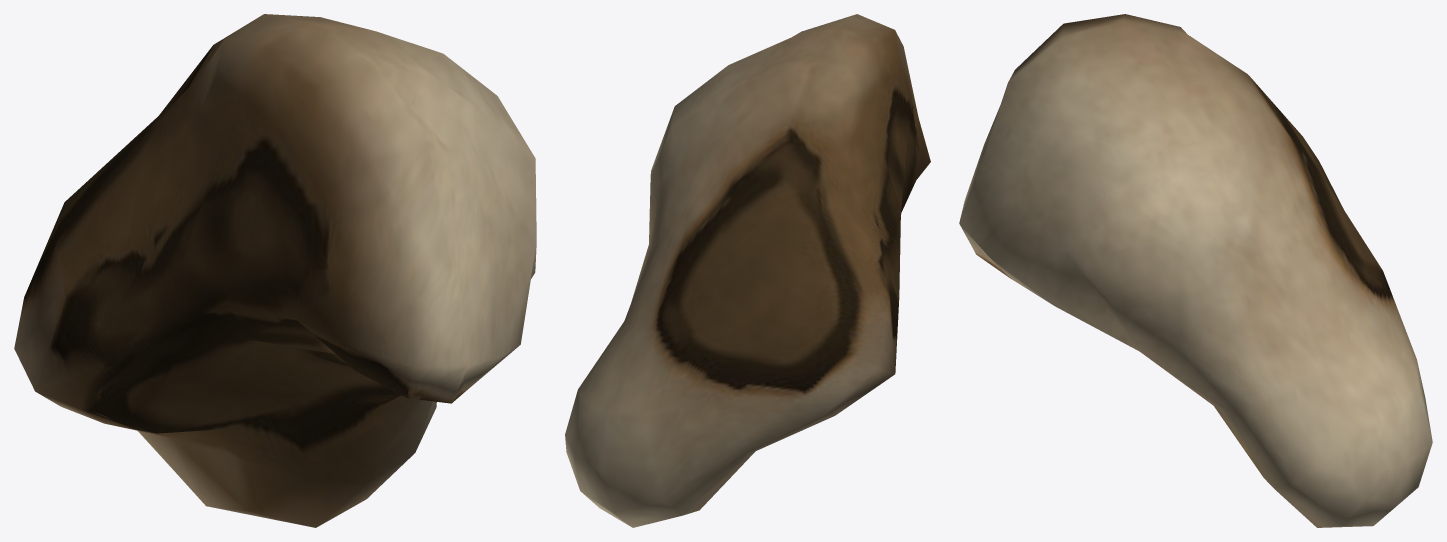
The model's file is Ulnar.glb.
The picture shows the model from 3 angles, left to right: view 1: azimuth 30°, elevation 25°; view 2: azimuth 150°, elevation 25°; view 3: azimuth 270°, elevation 25°; orthographic projection. The views are drawn at different scales.
Parts seen in each view (by area): view 1: Ulnar_Left1:Group30385; view 2: Ulnar_Left1:Group30385; view 3: Ulnar_Left1:Group30385.
Boxes of the visible parts, left/top/right/bottom form: Ulnar_Left1:Group30385: left=14, top=14, right=536, bottom=527; Ulnar_Left1:Group30385: left=565, top=14, right=930, bottom=527; Ulnar_Left1:Group30385: left=959, top=14, right=1432, bottom=527.
Bounding box in the file's own units: 10.46 × 14.79 × 14.13.
Materials: 1 (1 with a texture image).
